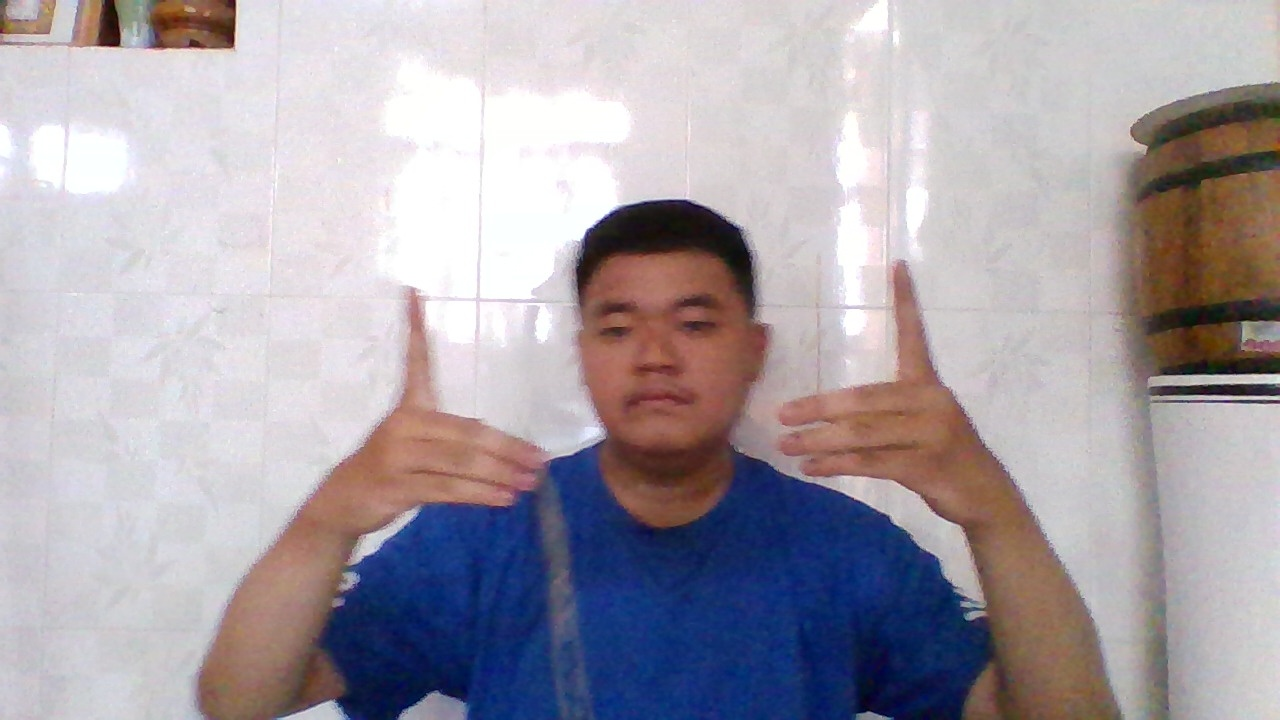D: (767, 252, 1013, 528), (306, 285, 551, 544)
